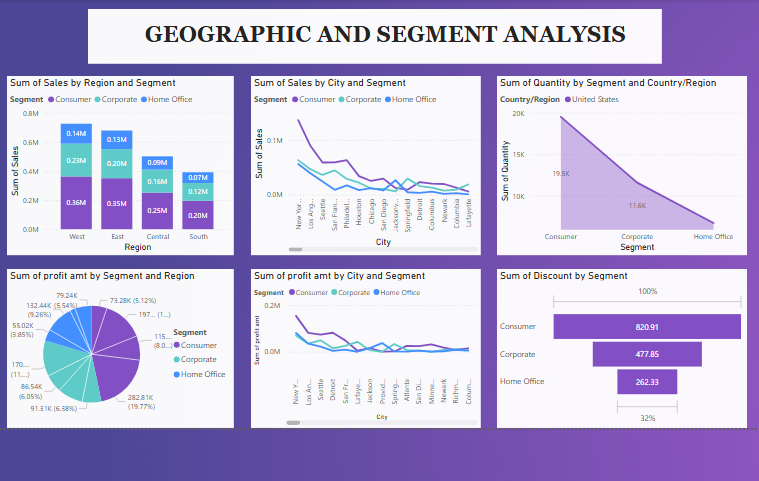

What the dashboard file says about the page in this screenshot:
{"tool":"powerbi","page":{"name":"GEO/SEG","canvas":[1280,720],"ordinal":2},"visuals":[{"type":"textbox","box":[152.9,16.8,964.2,92.4],"z":0},{"type":"columnChart","fields":{"Category":["Orders.Region"],"Y":["Sum(Orders.Sales)"],"Series":["Orders.Segment"]},"box":[16.8,129.3,381.3,300.7],"z":1000},{"type":"lineChart","fields":{"Category":["Orders.City"],"Y":["Sum(Orders.Sales)"],"Series":["Orders.Segment"]},"box":[426.7,129.3,386.4,300.7],"z":2000},{"type":"pieChart","fields":{"Y":["Sum(Orders.profit amt)"],"Category":["Orders.Segment"],"Series":["Orders.Region"]},"box":[16.8,453.5,381.3,267.1],"z":3000},{"type":"lineChart","fields":{"Category":["Orders.City"],"Y":["Sum(Orders.profit amt)"],"Series":["Orders.Segment"]},"box":[426.7,453.5,386.4,267.1],"z":4000},{"type":"stackedAreaChart","fields":{"Y":["Sum(Orders.Quantity)"],"Category":["Orders.Segment"],"Series":["Orders.Country/Region"]},"box":[839.9,129.3,419.9,300.7],"z":5000},{"type":"funnel","fields":{"Y":["Sum(Orders.Discount)"],"Category":["Orders.Segment","Orders.Country/Region"]},"box":[839.9,453.5,419.9,267.1],"z":6000}]}

Visuals, with their boxes in screenshot pixels (x1, y1, x2, y2):
textbox: rect(91, 12, 655, 66)
columnChart - Orders.Region x Sum(Orders.Sales): rect(12, 78, 235, 253)
lineChart - Orders.City x Sum(Orders.Sales): rect(252, 78, 477, 253)
pieChart - Sum(Orders.profit amt) x Orders.Segment: rect(12, 267, 235, 423)
lineChart - Orders.City x Sum(Orders.profit amt): rect(252, 267, 477, 423)
stackedAreaChart - Sum(Orders.Quantity) x Orders.Segment: rect(493, 78, 739, 253)
funnel - Sum(Orders.Discount) x Orders.Segment: rect(493, 267, 739, 423)
